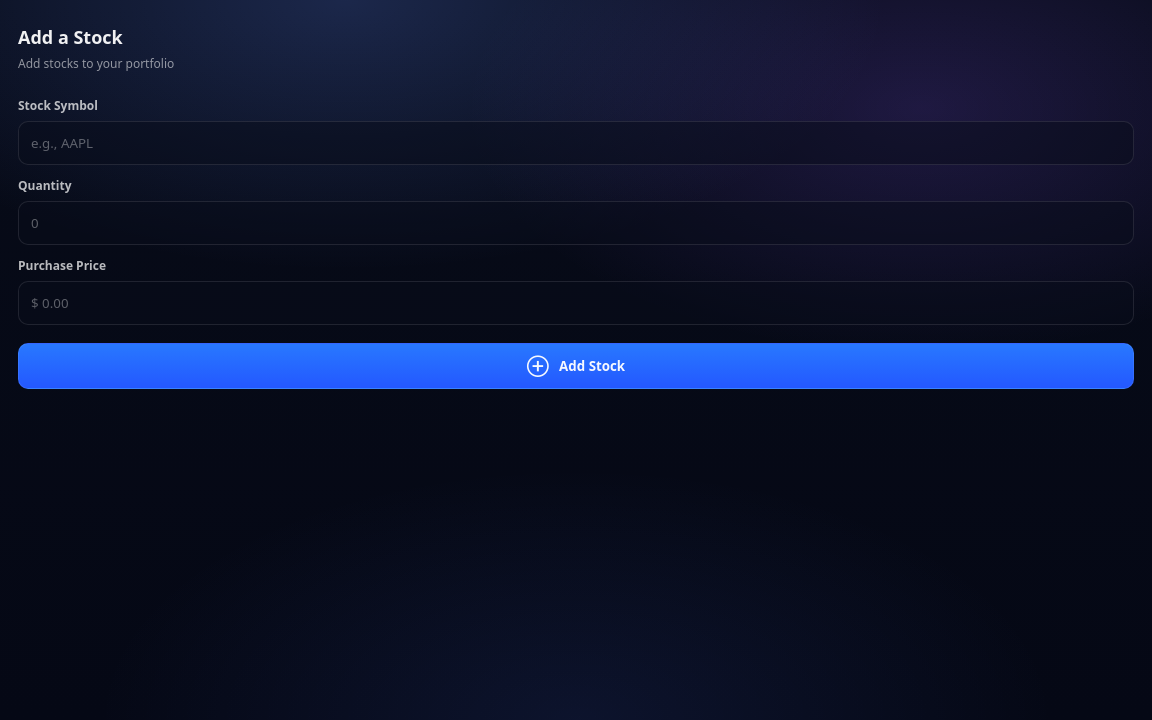
Test: StockForm › shows error if submit with missing fields
Click the button "⊕ Add Stock": (576, 366) [18, 343, 1134, 389]
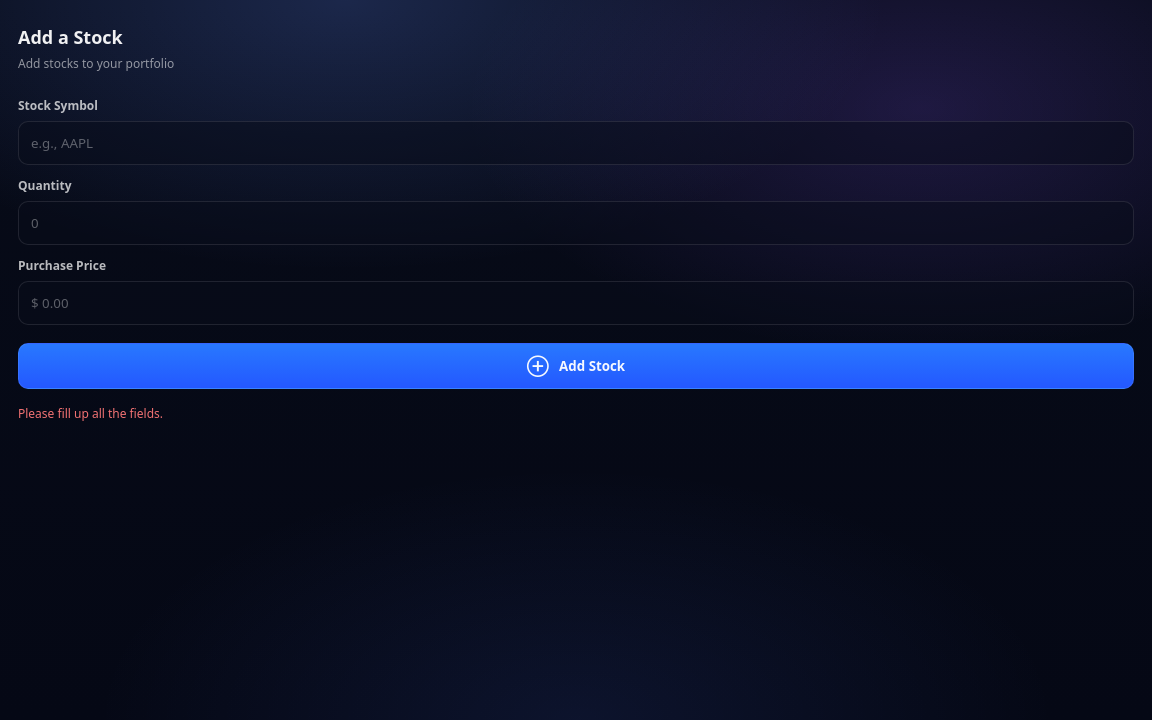
Check: the text "Please fill up all the fields." is shown, box [18, 405, 163, 422]
